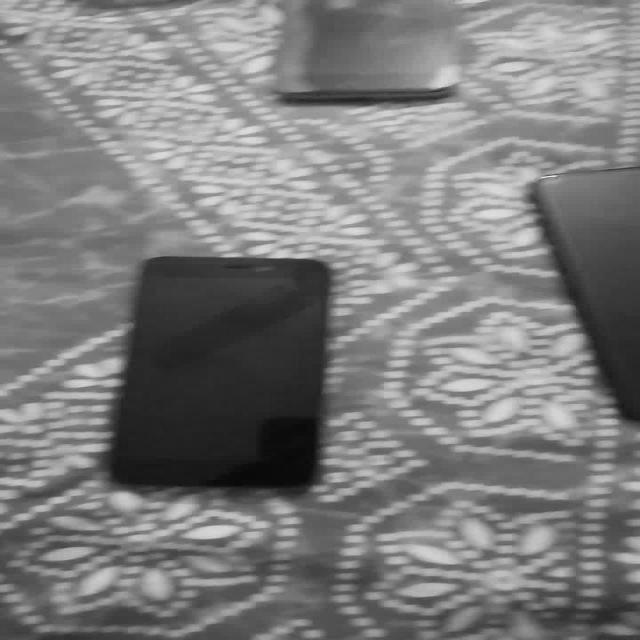fake: (114, 258, 336, 494), (530, 152, 640, 422), (274, 6, 468, 96)
